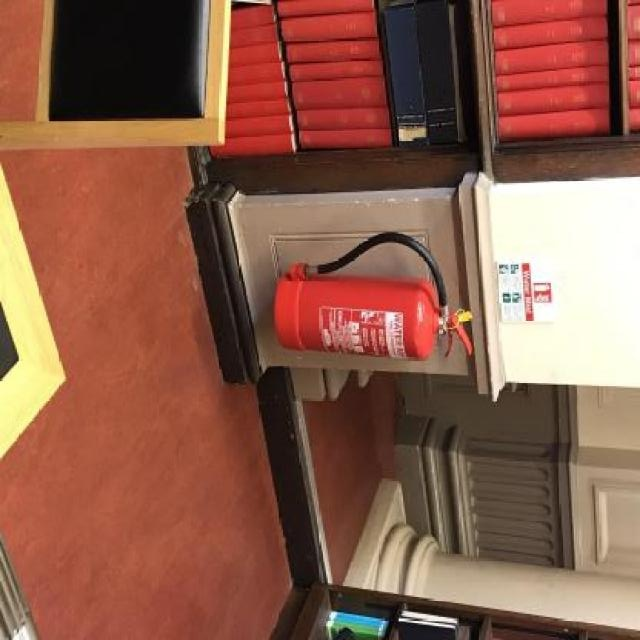fire extinguisher: (273, 229, 473, 359)
